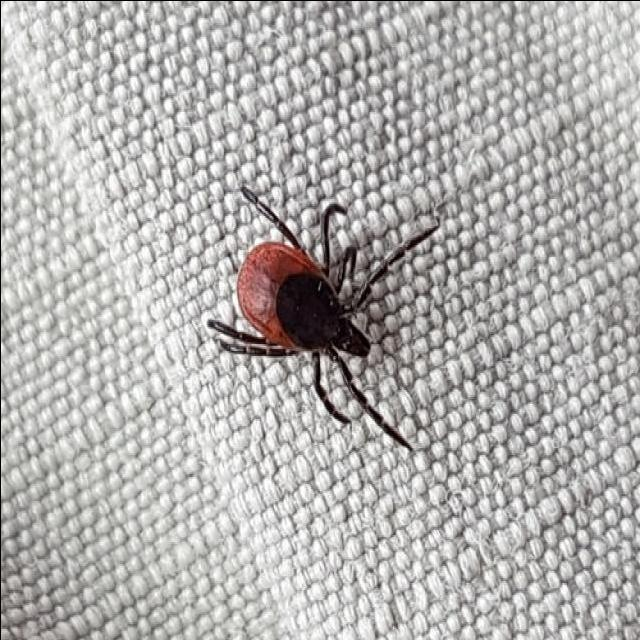Ixodes Ricinus-F: (209, 186, 425, 451)
